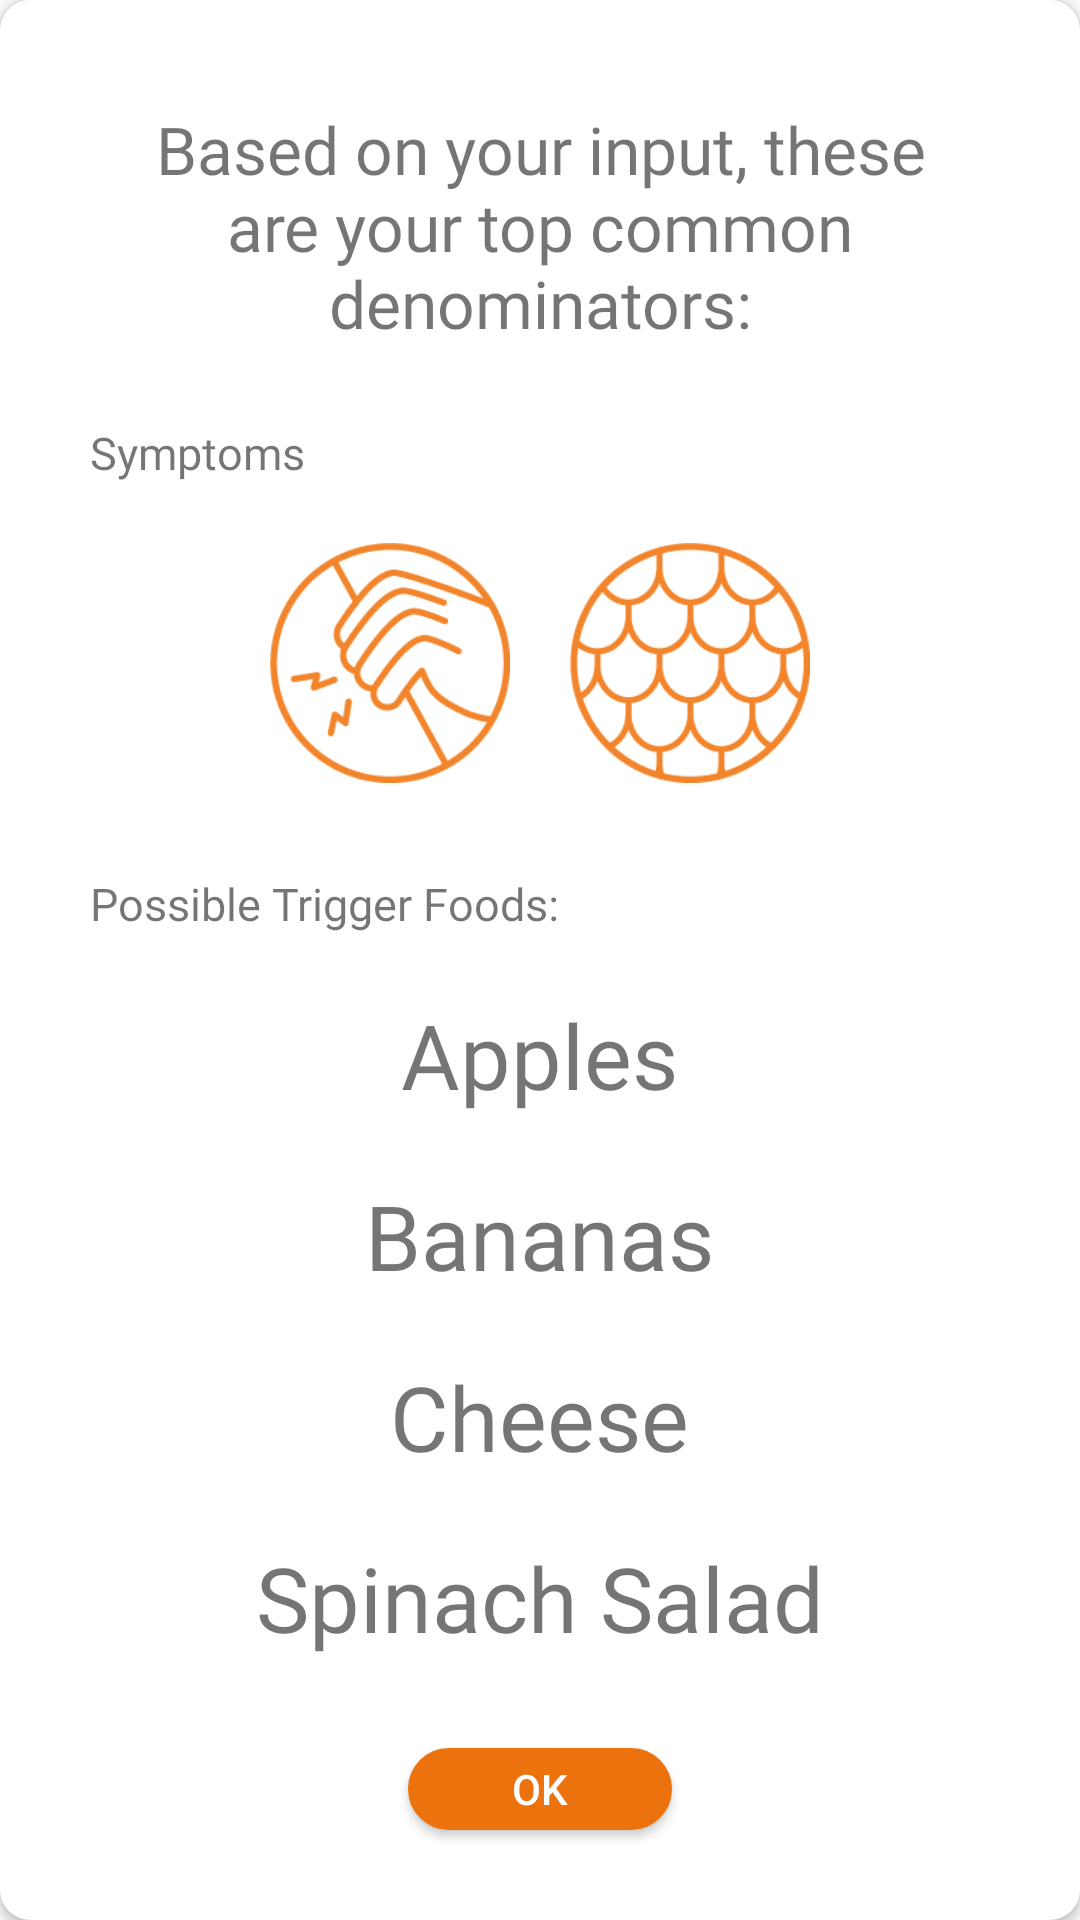

Named icons in this screenshot (1080x1920) and their centers, [x,y]:
itchy: [390,663]
scaly: [690,663]
